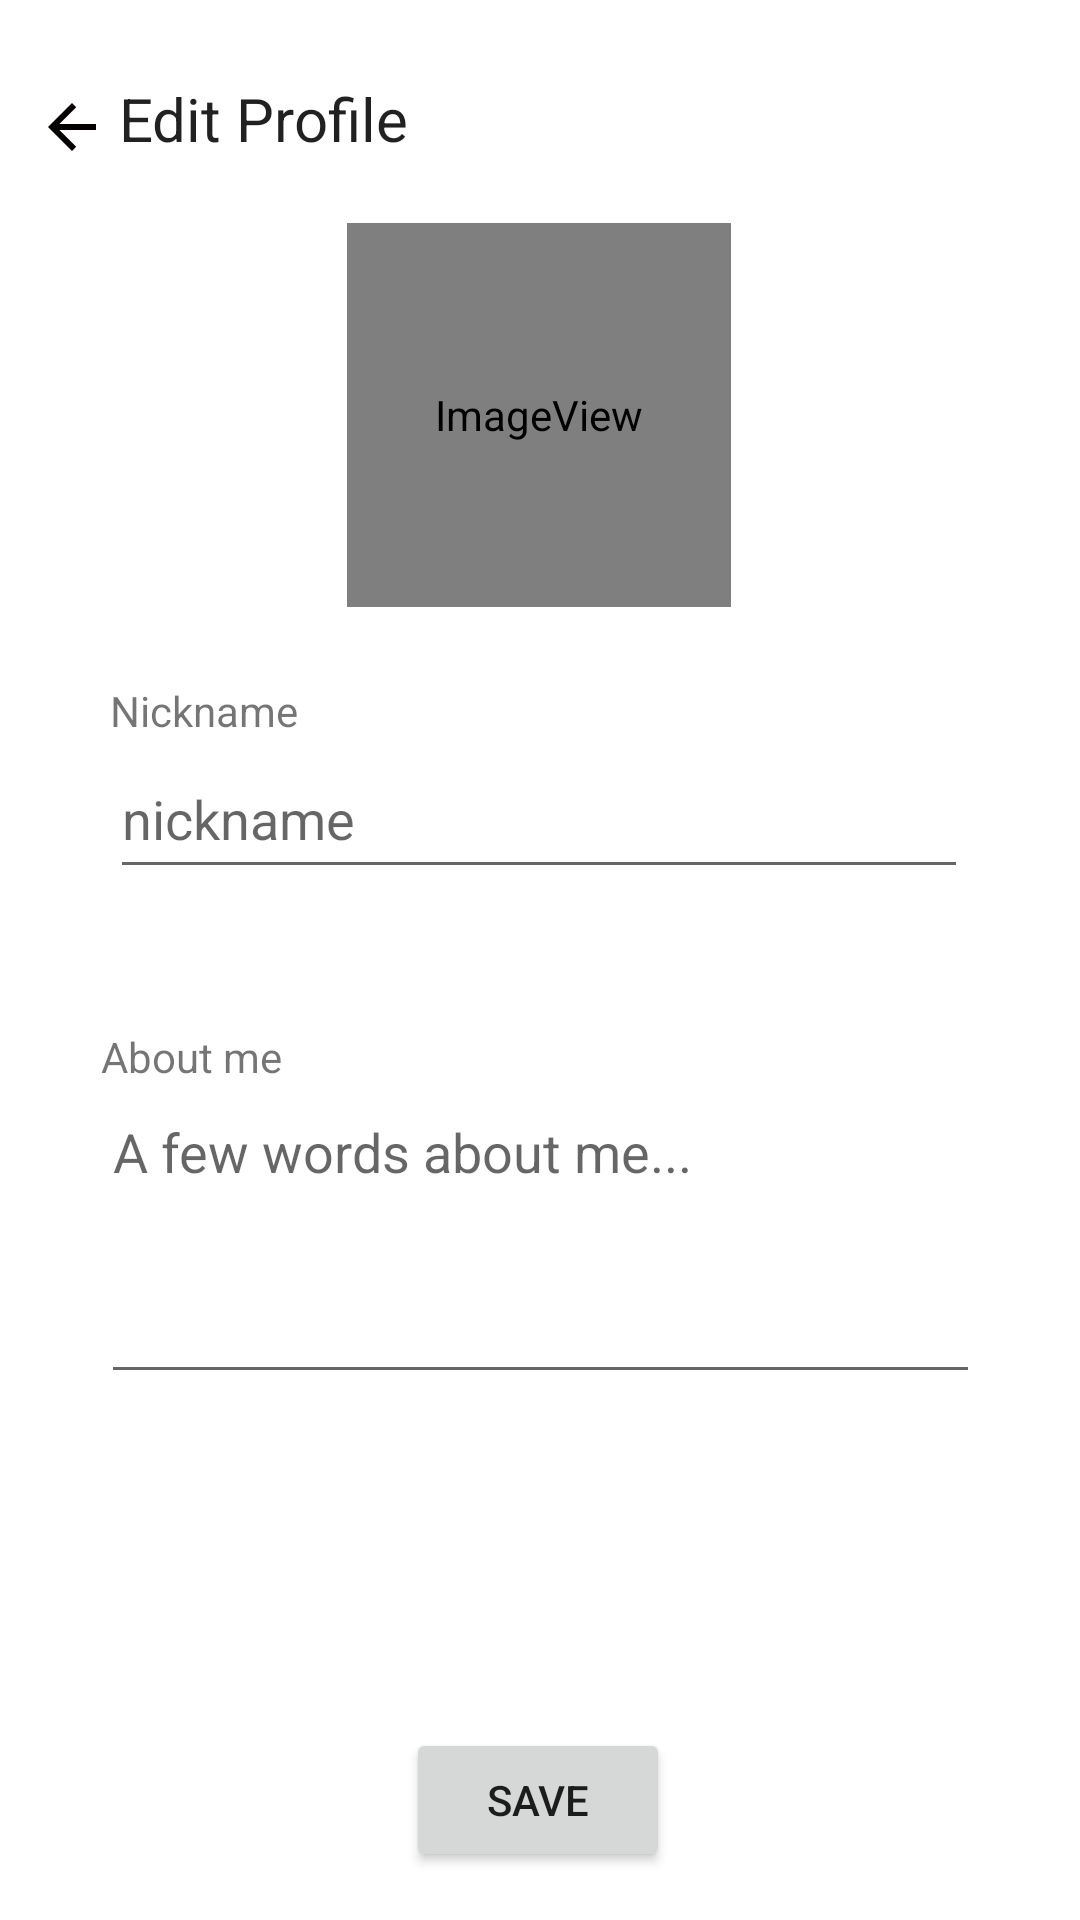

Screen size 1080 x 1920. Icon name, then its center in pixels as point (x, y):
Back: point (72, 127)
